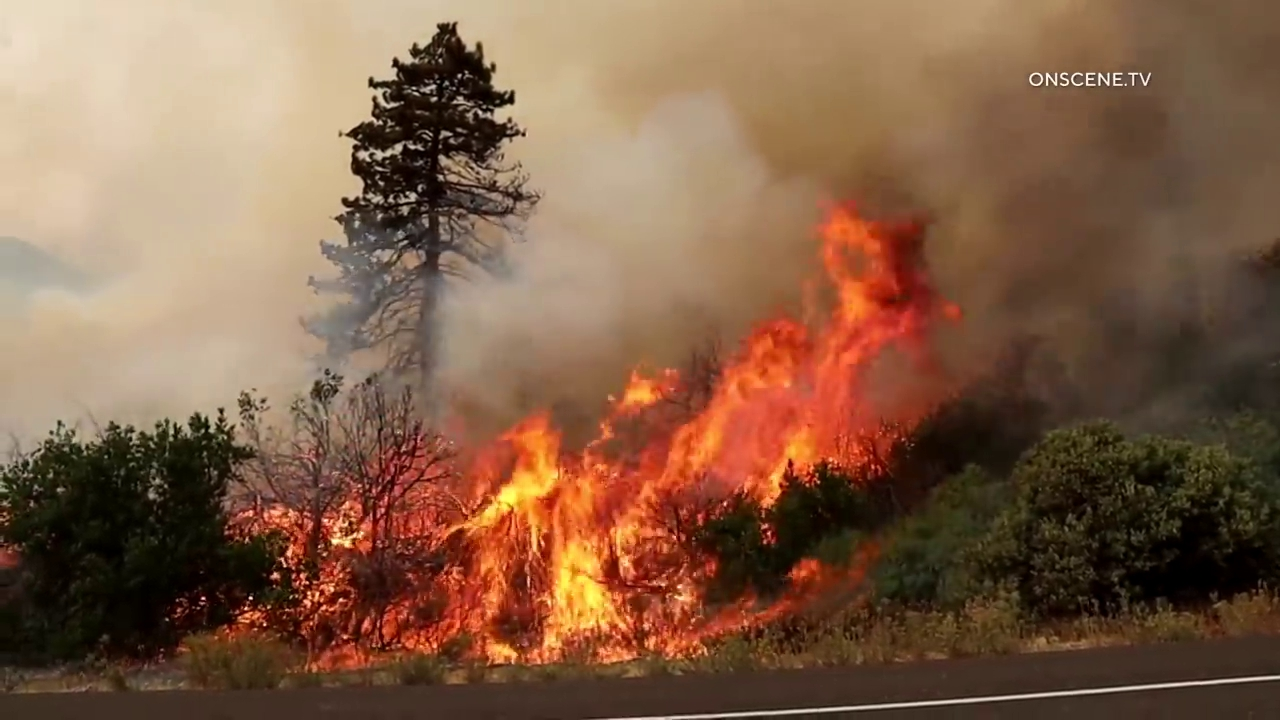forest_fire: (240, 206, 957, 660), (776, 549, 822, 591)
